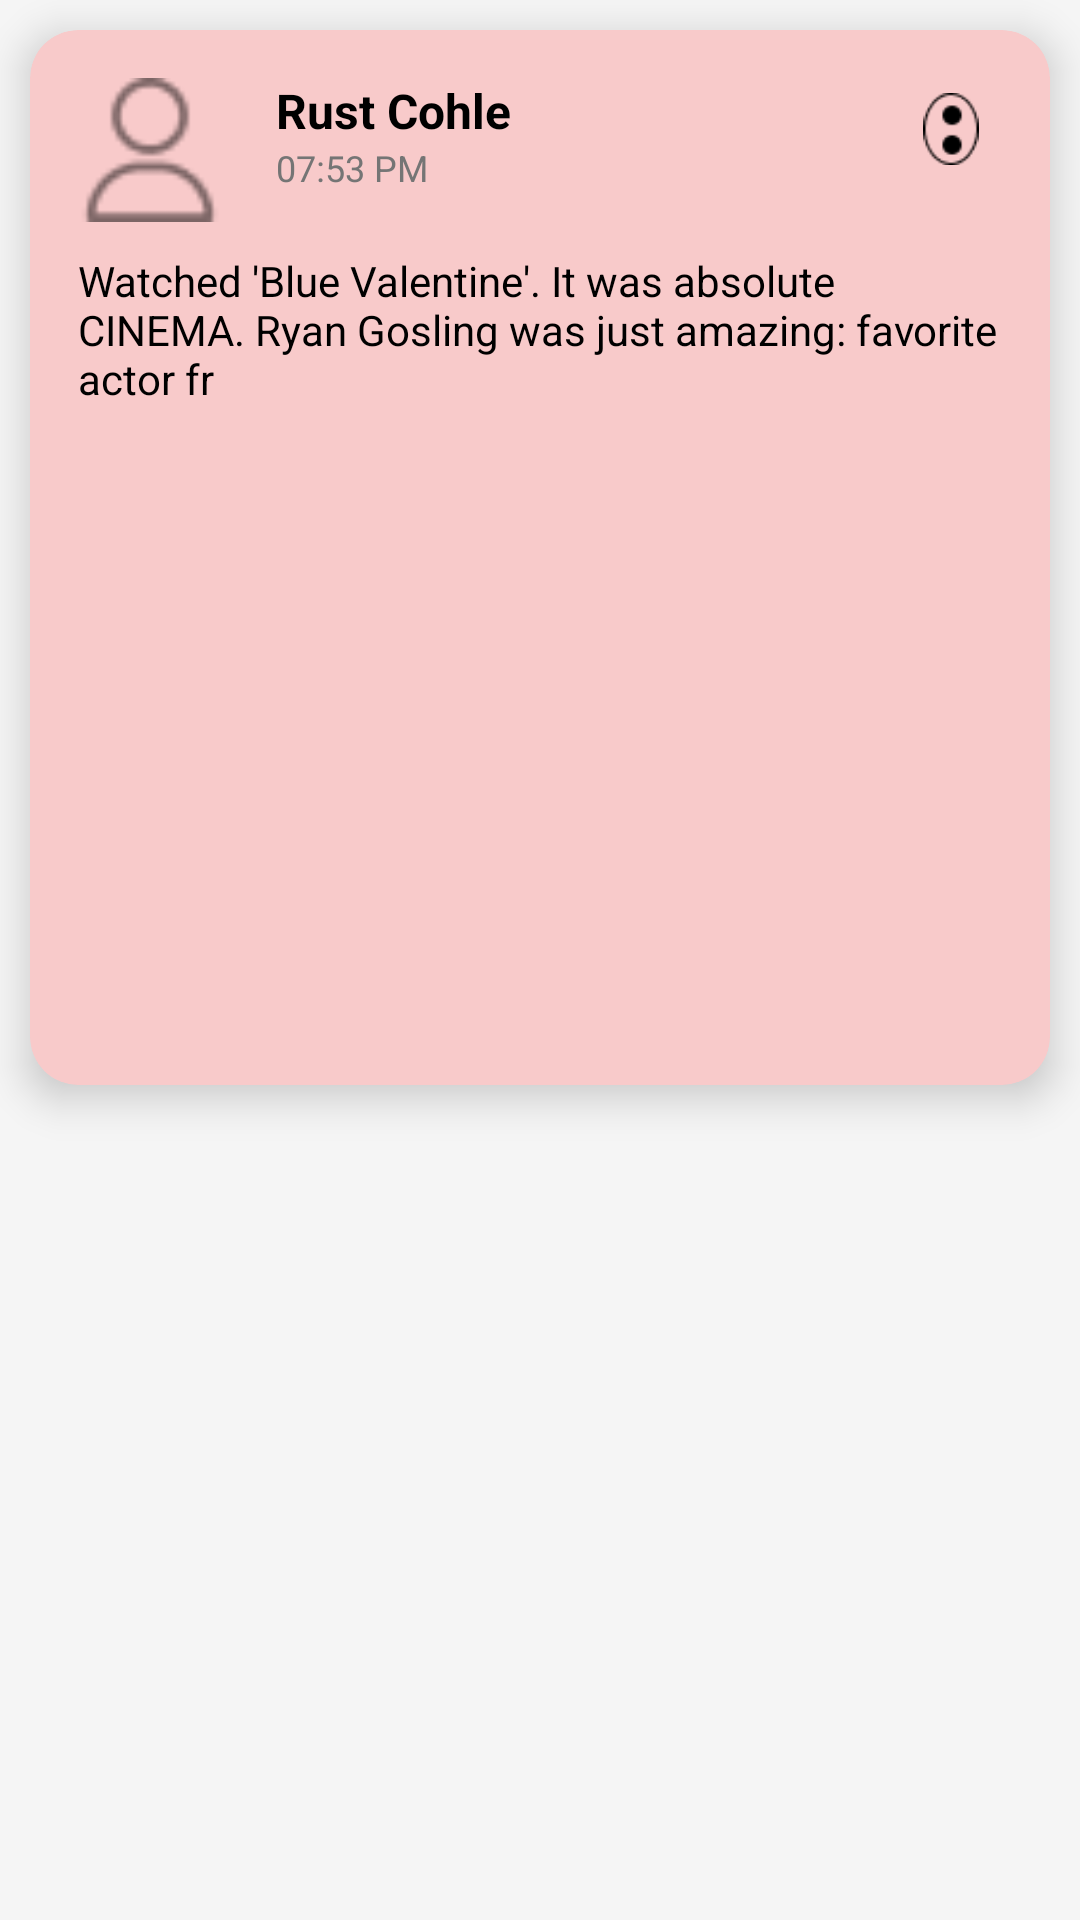

Icon bounding boxes for this 1080 x 1920 phone screenshot, format (x1, y1, x2, y2):
two dot: (923, 93, 979, 165)
user profile: (86, 78, 214, 222)
